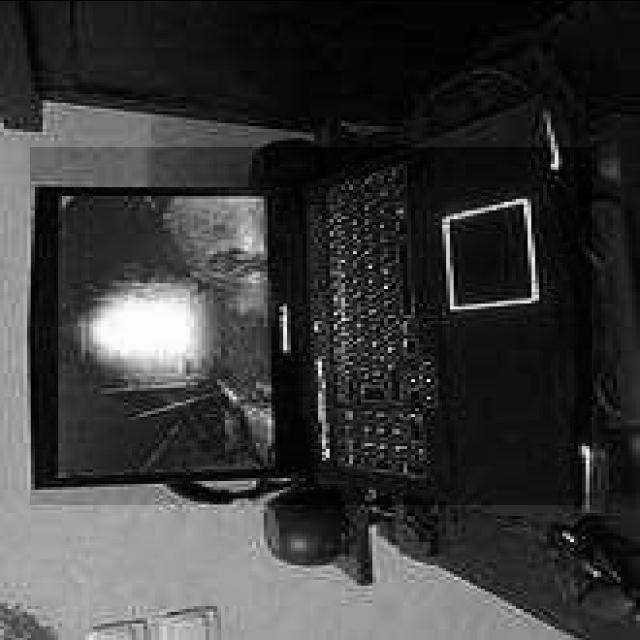-keyboard-: (30, 147, 592, 505)
